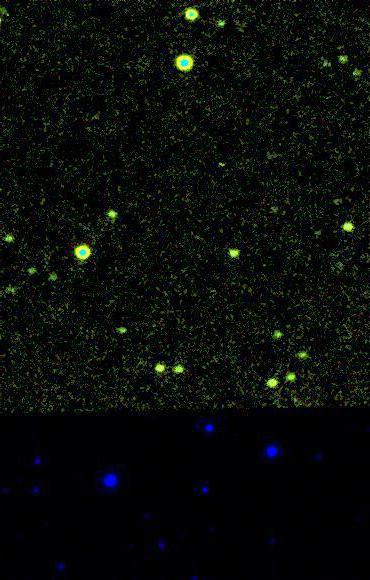star: (209, 150, 239, 180)
